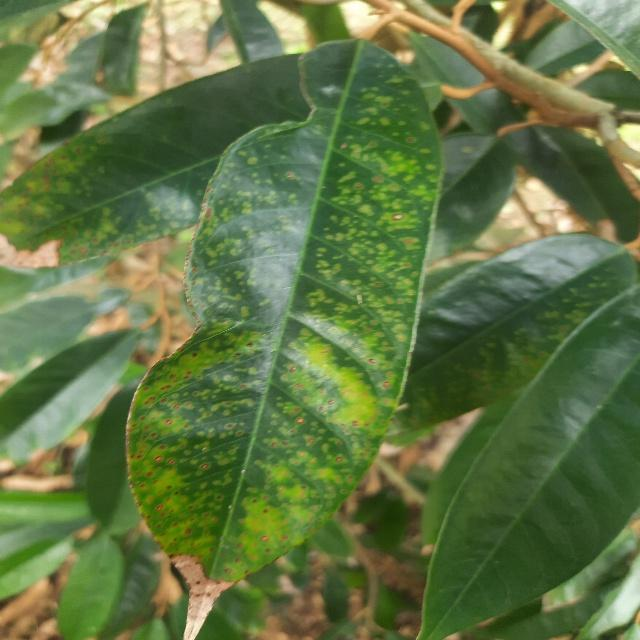Leaf Spot: (119, 25, 445, 640)
